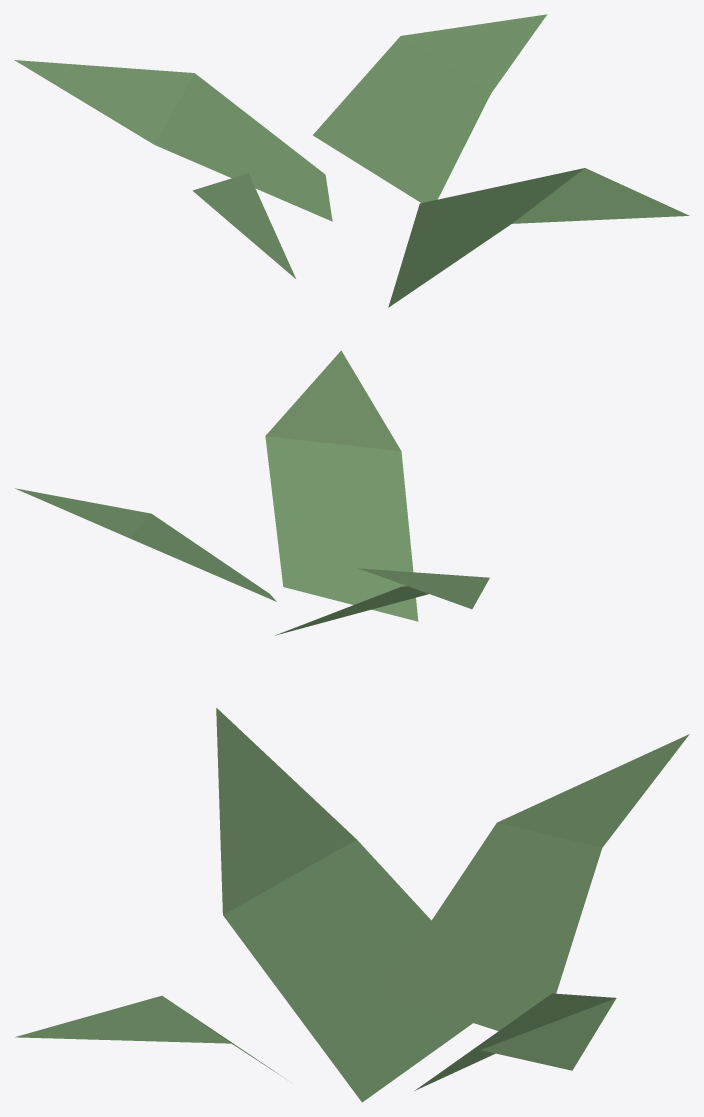
The model's file is lowGrass_01.glb.
3 renders of one model, top to bottom at view 1: azimuth 30°, elevation 25°; view 2: azimuth 150°, elevation 25°; view 3: azimuth 270°, elevation 25°, orthographic. The views are drawn at different scales.
Visible parts, largest first — view 1: Grass_Patch_pPlane6_Grass_Patch_Green_0_001; view 2: Grass_Patch_pPlane6_Grass_Patch_Green_0_001; view 3: Grass_Patch_pPlane6_Grass_Patch_Green_0_001.
Boxes of the visible parts, x1,y1,x2,y2 form: Grass_Patch_pPlane6_Grass_Patch_Green_0_001: (14, 14, 689, 307); Grass_Patch_pPlane6_Grass_Patch_Green_0_001: (15, 350, 489, 635); Grass_Patch_pPlane6_Grass_Patch_Green_0_001: (15, 708, 689, 1102).
Bounding box in the file's own units: 2 × 0.8538 × 1.9.
